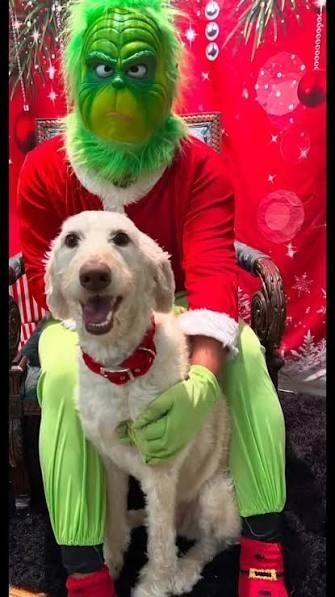adult_dog: (44, 208, 243, 597)
